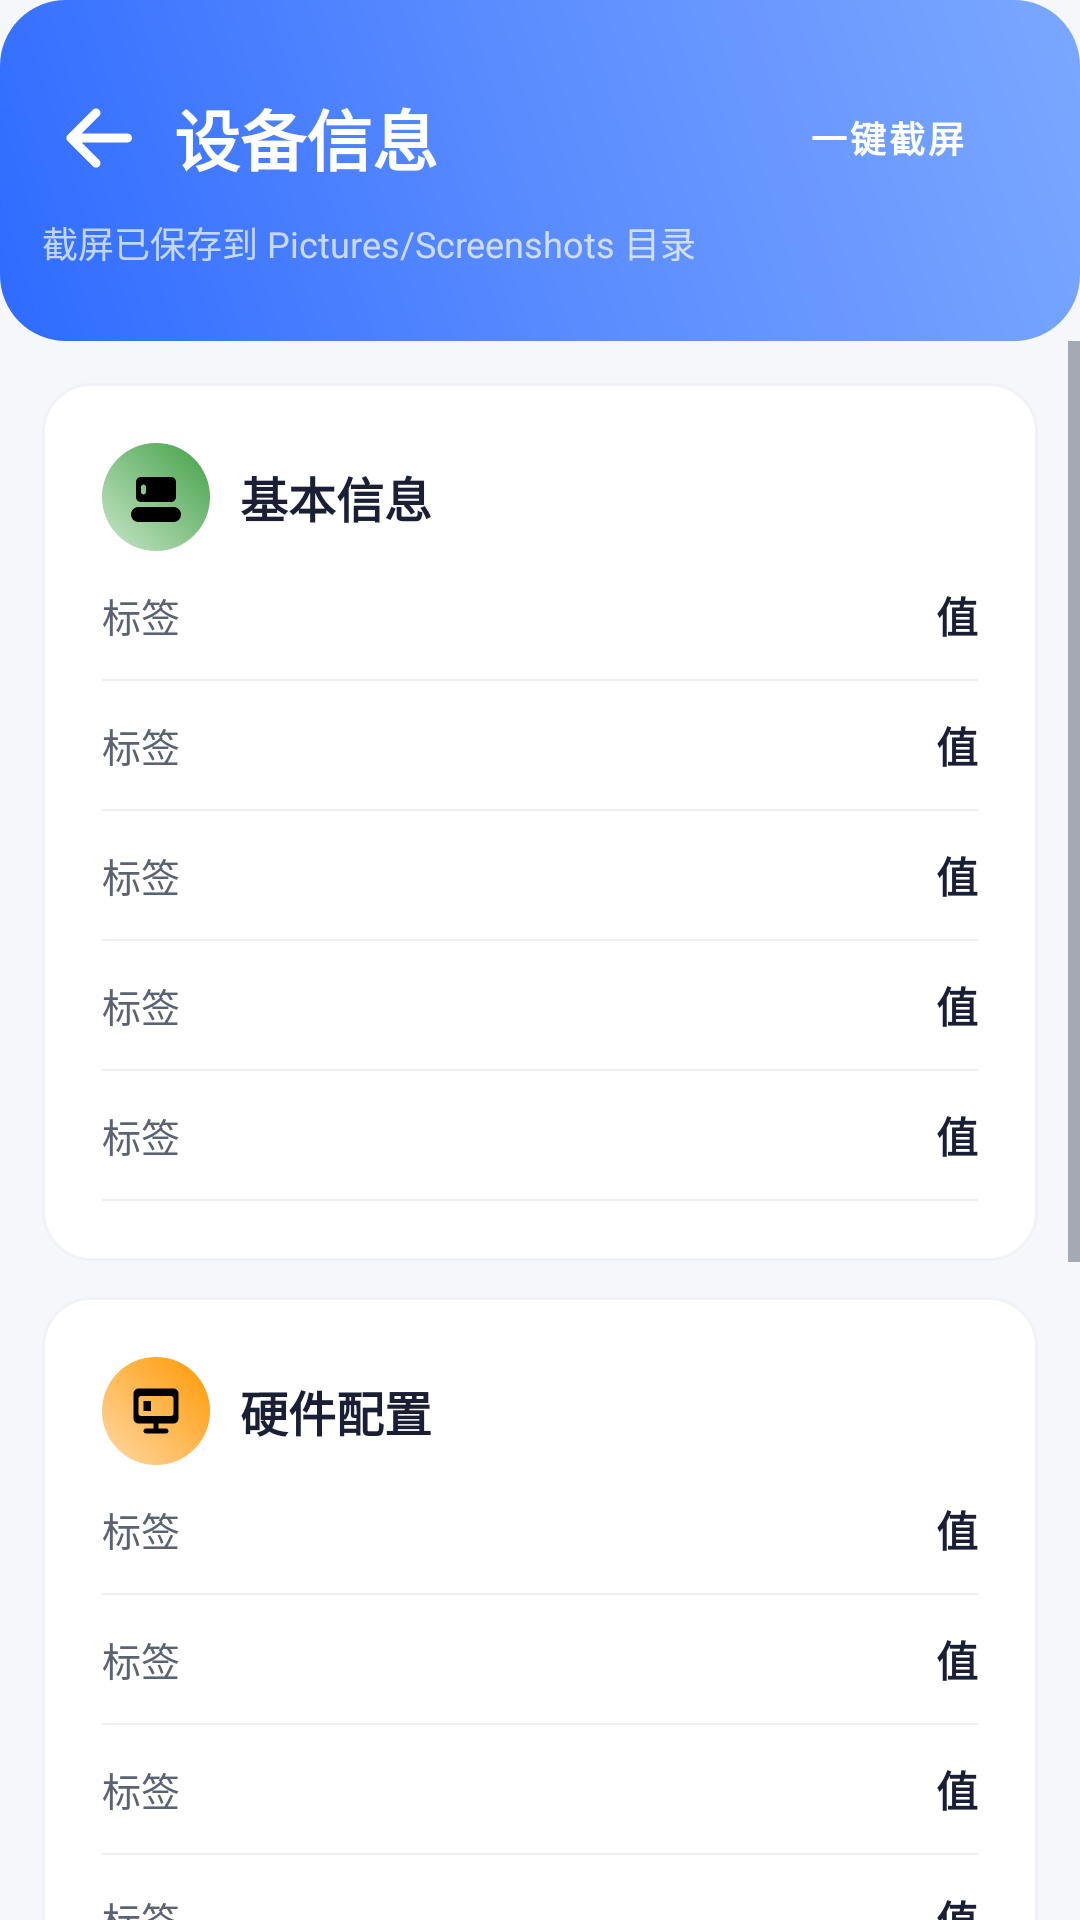

Locate icon controls on the screen. Image size 1080px×1920px, boxes as (x1, y1, x2, y2).
feature device: (102, 443, 210, 551)
feature monitor: (102, 1357, 210, 1465)
返回: (66, 108, 132, 168)
